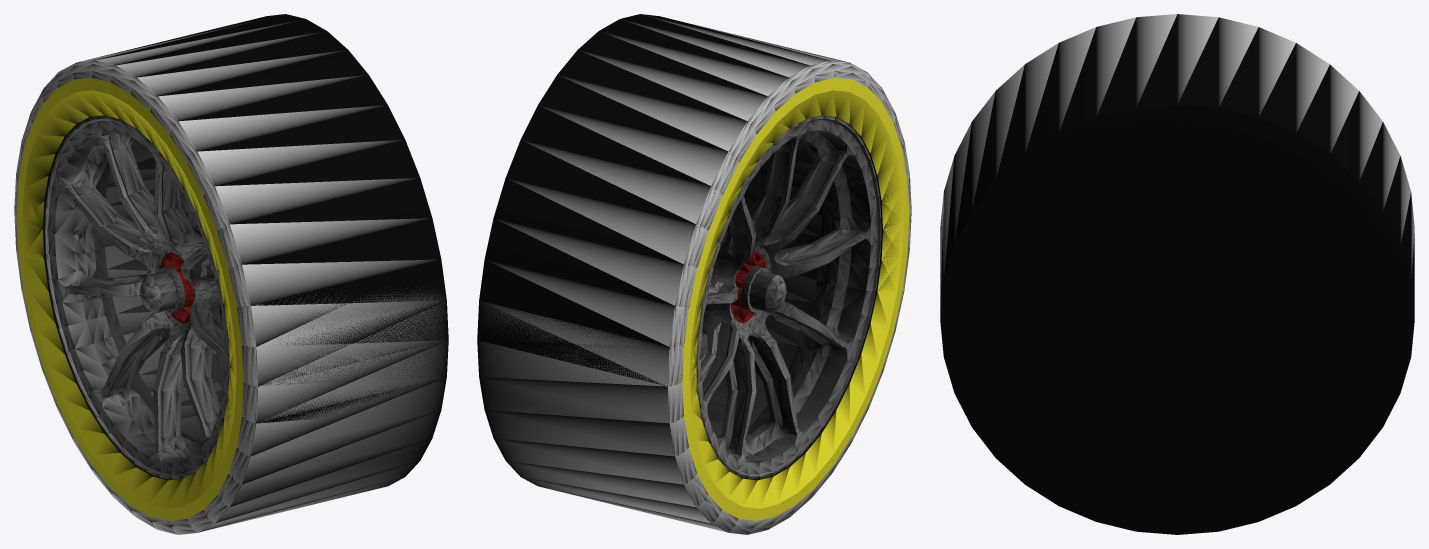
The picture shows the model from 3 angles, left to right: view 1: azimuth 30°, elevation 25°; view 2: azimuth 150°, elevation 25°; view 3: azimuth 270°, elevation 25°; orthographic projection. The views are drawn at different scales.
Parts seen in each view (by area): view 1: Tirefr_garage1, Rimfl_garage_vcolor, Tirefl_garage1, Tirefr_garage, Tirefl_garage, Rimfl_garage1_vcolor; view 2: Tirefr_garage1, Rimfl_garage_vcolor, Tirefl_garage1, Tirefr_garage, Tirefl_garage, Rimfl_garage1_vcolor; view 3: Tirefr_garage1, Tirefl_garage1.
Part boxes in pixels (x1,y1,x2,y2): Tirefr_garage1: (14, 14, 448, 526); Rimfl_garage_vcolor: (44, 115, 229, 479); Tirefl_garage1: (14, 63, 448, 534); Tirefr_garage: (16, 113, 243, 520); Tirefl_garage: (16, 77, 243, 519); Rimfl_garage1_vcolor: (159, 252, 194, 323); Tirefr_garage1: (477, 14, 911, 532); Rimfl_garage_vcolor: (696, 115, 881, 479); Tirefl_garage1: (477, 70, 911, 534); Tirefr_garage: (682, 79, 909, 520); Tirefl_garage: (682, 77, 909, 504); Rimfl_garage1_vcolor: (731, 252, 766, 323); Tirefr_garage1: (940, 14, 1414, 534); Tirefl_garage1: (940, 105, 1414, 534).
Size of the model in its own units: 1.24 by 2.6 by 2.6.
